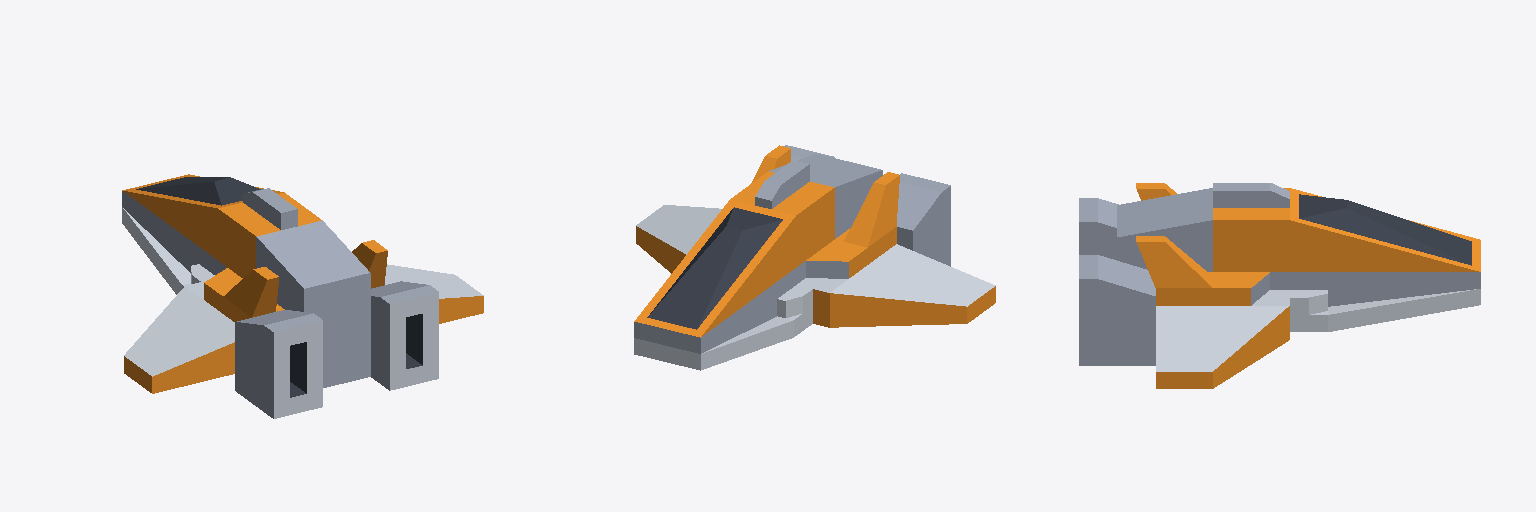
File: foo.obj
3 views of the same model, side by side, from view 1: azimuth 30°, elevation 25°; view 2: azimuth 150°, elevation 25°; view 3: azimuth 270°, elevation 25° (orthographic).
Parts seen in each view (by area): view 1: craft_speederA_ID11; view 2: craft_speederA_ID11; view 3: craft_speederA_ID11.
Boxes of the visible parts, <box> form: craft_speederA_ID11: <box>122,174,483,418</box>; craft_speederA_ID11: <box>634,145,995,370</box>; craft_speederA_ID11: <box>1079,183,1480,388</box>.
Bounding box in the file's own units: 2 × 0.8 × 2.1.